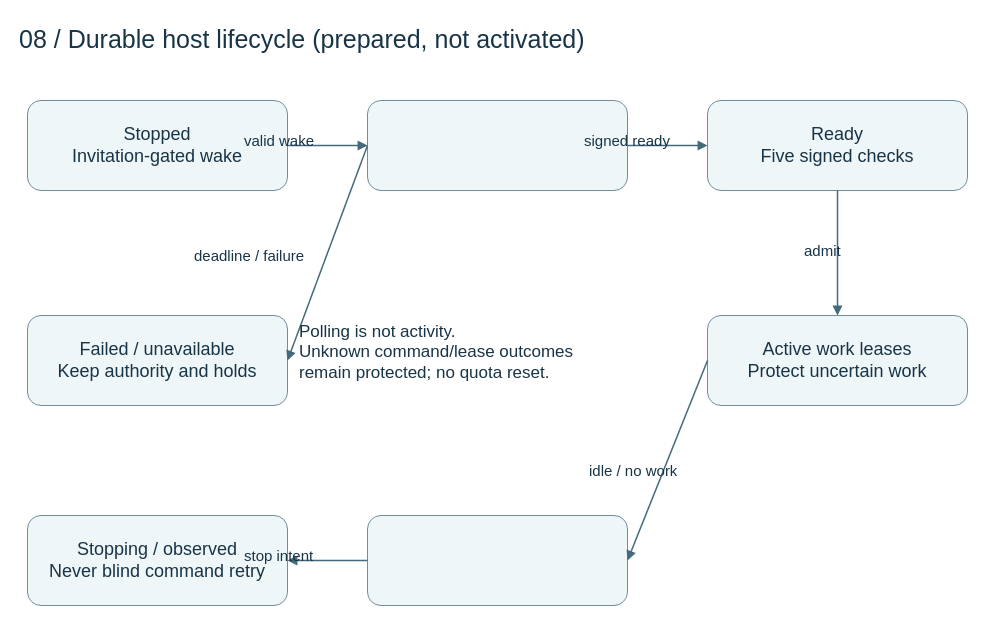
The diagram is 994 pixels wide and 623 high, and some of its shapes have lost their labels. The shapes that lost their labels are listed below. From the top down, each one's centre as x and y in pixels, then its label:
(x=497, y=145): Starting Generation + command
(x=497, y=560): Draining No new work
